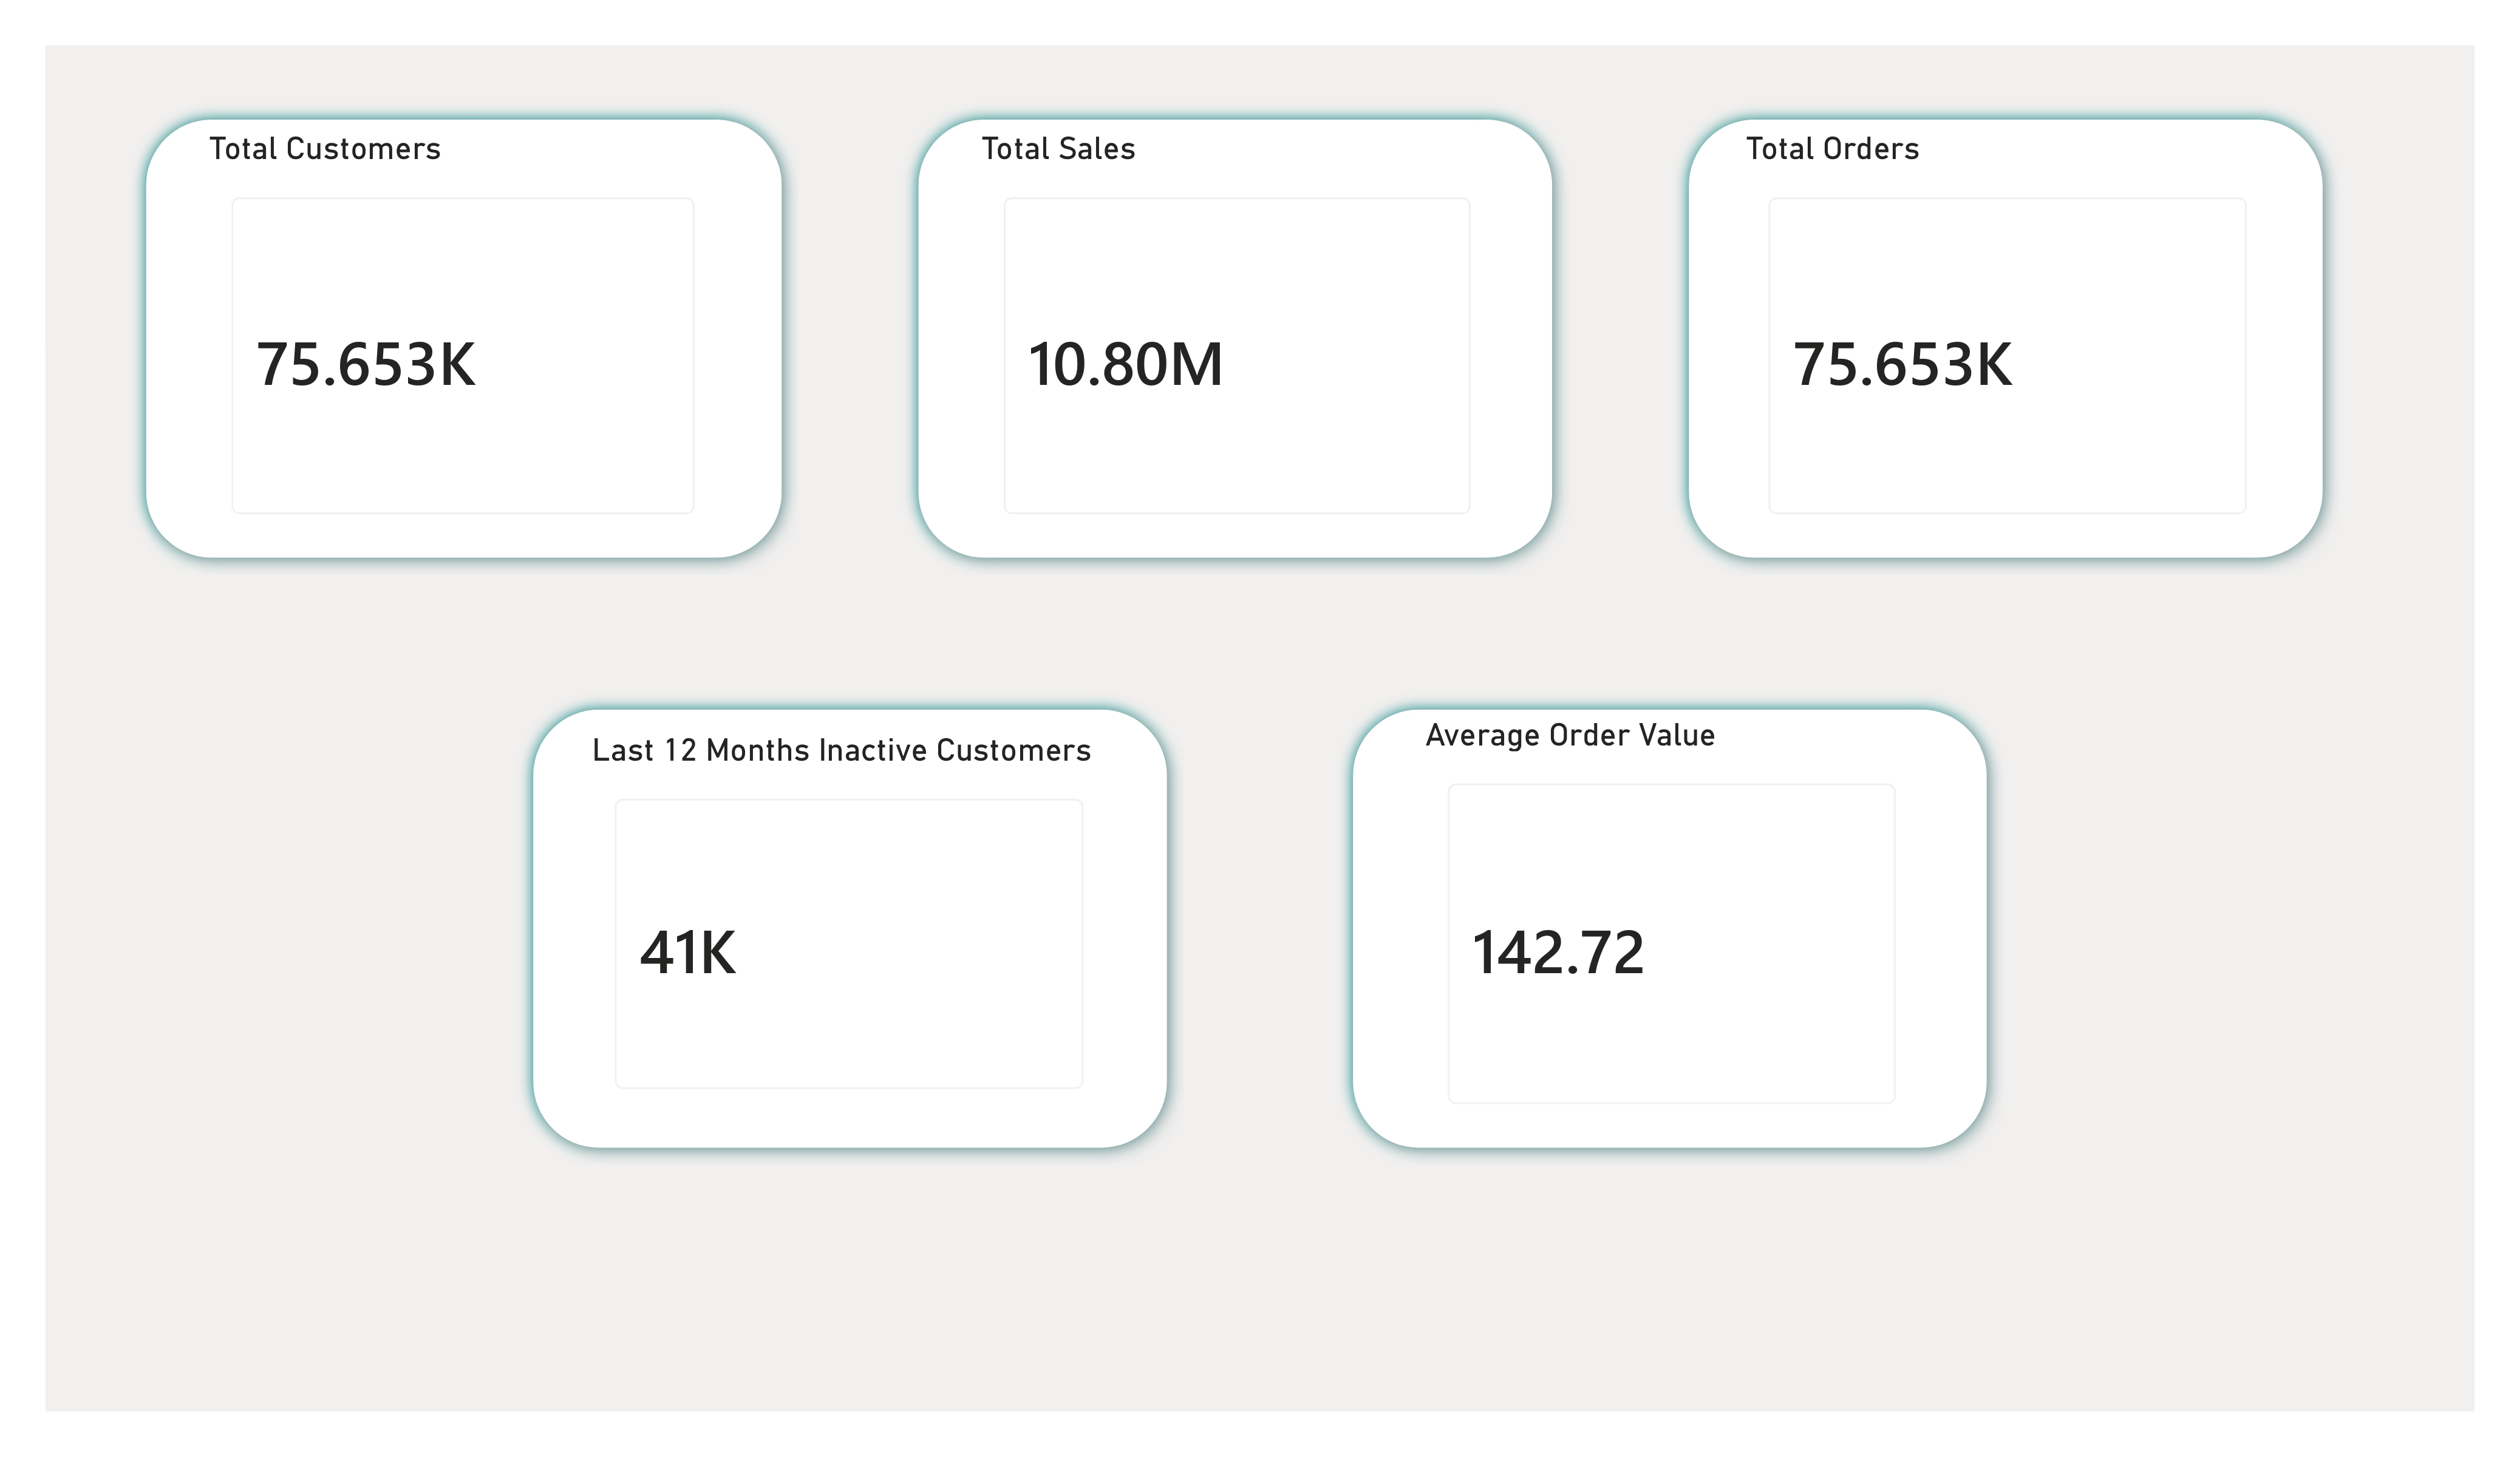

Layout of this report page (visuals, bound fields, positions):
{"tool":"powerbi","page":{"name":"BR-01","canvas":[1280,720],"ordinal":0},"visuals":[{"type":"shape","box":[44.2,29.8,352.3,248.8],"z":0},{"type":"shape","box":[247.7,340.7,352.3,248.8],"z":0,"group":"g2"},{"type":"shape","box":[680.2,340.7,352.3,248.8],"z":500,"group":"g3"},{"type":"group","id":"g1","title":"Group 2","box":[450.6,29.8,352.3,248.8],"z":1000},{"type":"shape","box":[857,29.8,352.3,248.8],"z":1000,"group":"g4"},{"type":"cardVisual","title":"Total Customers","fields":{"Data":["Count(orders.customer_id)"]},"box":[81.4,43.7,277.9,220.9],"z":2000},{"type":"cardVisual","title":"Total Orders","fields":{"Data":["Count(orders.order_id)"]},"box":[890.7,44.2,286,220.9],"z":2000,"group":"g4"},{"type":"group","id":"g2","title":"Group 3","box":[247.7,340.7,352.3,248.8],"z":3000},{"type":"cardVisual","title":"Average Order Value","fields":{"Data":["MeasureTable.Average Order Value"]},"box":[722.1,352.3,269.8,223.3],"z":3000,"group":"g3"},{"type":"shape","box":[450.6,29.8,352.3,248.8],"z":3500,"group":"g1"},{"type":"cardVisual","title":"Total Sales","fields":{"Data":["Sum(orders.price)"]},"box":[487.8,43.8,280.2,220.9],"z":4000,"group":"g1"},{"type":"group","id":"g3","title":"Group 4","box":[680.2,340.7,352.3,248.8],"z":4000},{"type":"cardVisual","title":"Last 12 Months Inactive Customers","fields":{"Data":["MeasureTable.last_12_months_inactive_customers"]},"box":[282.6,360.5,281.4,207],"z":4000,"group":"g2"},{"type":"group","id":"g4","title":"Group 5","box":[857,29.8,352.3,248.8],"z":5000}]}

Visuals, with their boxes on the page's 1280x720 design canvas (x1, y1, x2, y2). These are canvas units, not pixel positions in the 2520x1457 screenshot, which may show the page scaled, cropped or inside an application window:
shape: [44, 30, 396, 279]
shape: [248, 341, 600, 590]
shape: [680, 341, 1032, 590]
"Group 2" group: [451, 30, 803, 279]
shape: [857, 30, 1209, 279]
"Total Customers" cardVisual: [81, 44, 359, 265]
"Total Orders" cardVisual: [891, 44, 1177, 265]
"Group 3" group: [248, 341, 600, 590]
"Average Order Value" cardVisual: [722, 352, 992, 576]
shape: [451, 30, 803, 279]
"Total Sales" cardVisual: [488, 44, 768, 265]
"Group 4" group: [680, 341, 1032, 590]
"Last 12 Months Inactive Customers" cardVisual: [283, 360, 564, 568]
"Group 5" group: [857, 30, 1209, 279]
